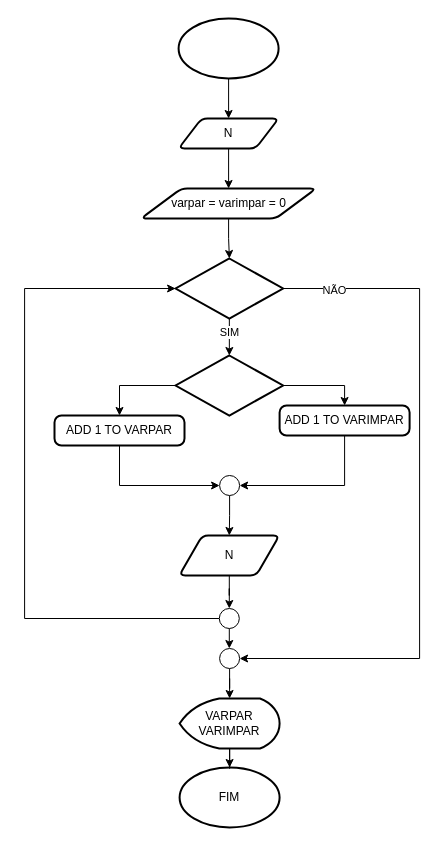
The diagram is 445 pixels wide and 845 high, and some of its shapes have lost their labels. Here are the shapes that lost their labels. From the top down, the box of each, then its label:
(177, 17, 279, 79): INICIO
(174, 257, 284, 319): N != 0
(174, 354, 284, 416): N % 2 == 0
